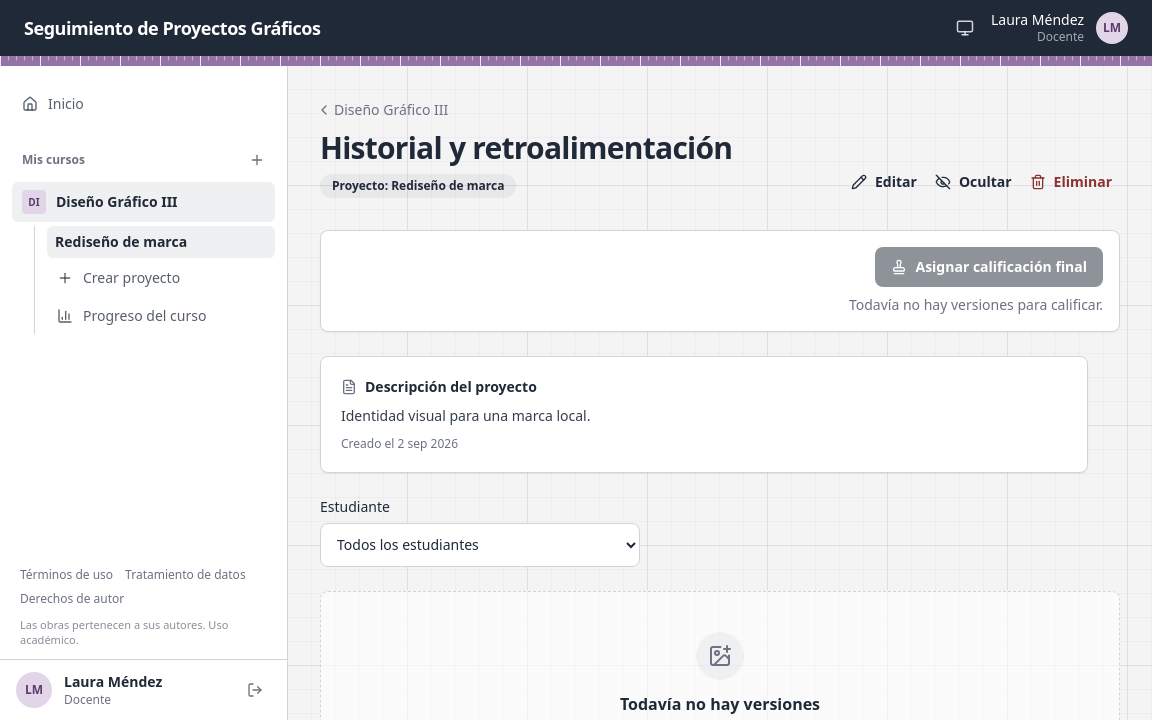
Test case: Ocultar y eliminar › sin versiones se elimina y vuelve al curso
What coordinates should you click on to do the following:
click the button "Eliminar"
I would click on:
 (1071, 182)
Its box is [1022,166,1120,198].
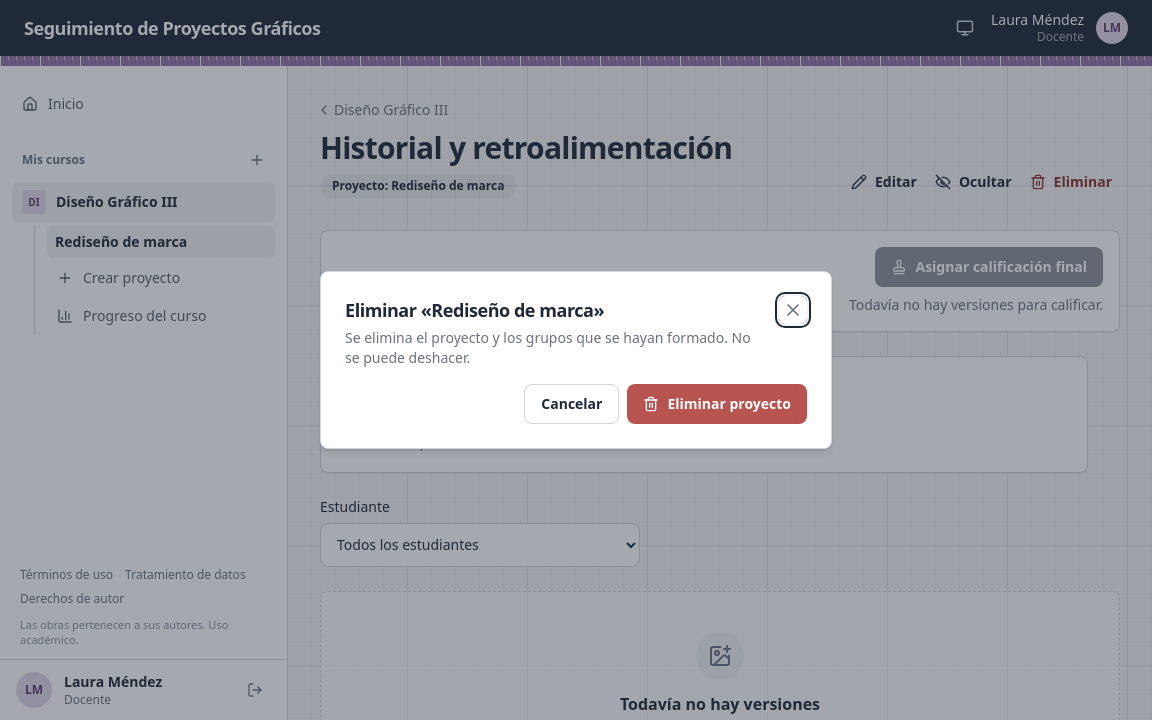
What coordinates should you click on to do the following:
click the button "Eliminar proyecto"
I would click on:
 (717, 404)
Its box is [627,384,807,424].
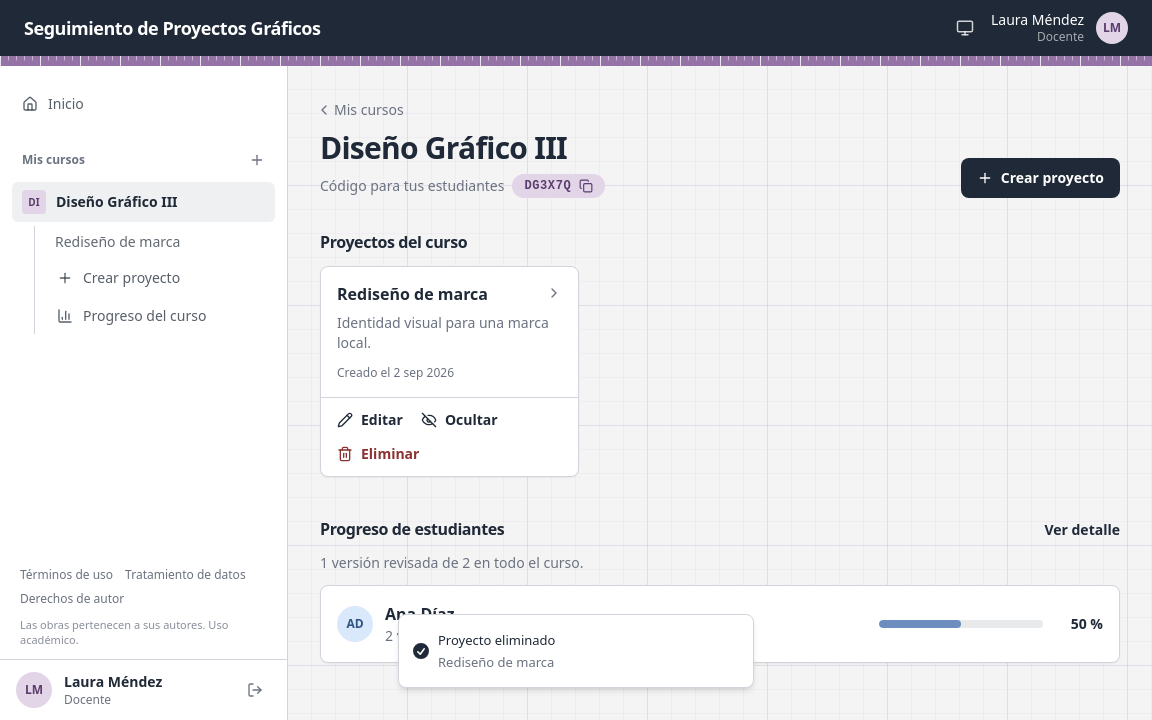
Expected: the heading "Diseño Gráfico III" is shown, [320,130,605,166]
